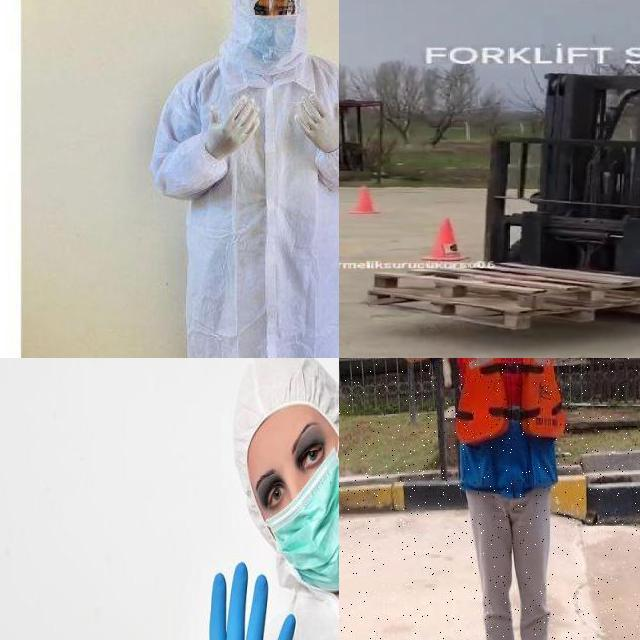Glove: (168, 563, 296, 640), (188, 88, 268, 177), (284, 86, 339, 168)
MASK: (263, 451, 339, 592), (247, 11, 294, 59)
VEST: (453, 358, 567, 488)
